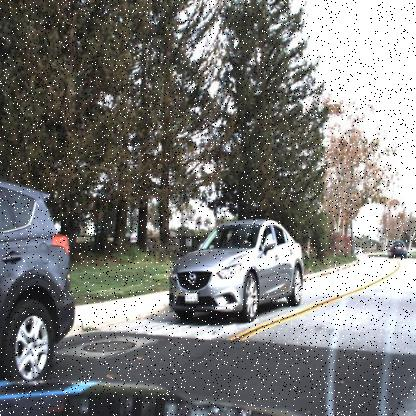car: (0, 179, 74, 386), (168, 216, 304, 324)
